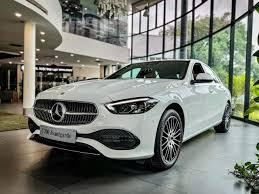mercedes: (50, 101, 69, 125)
